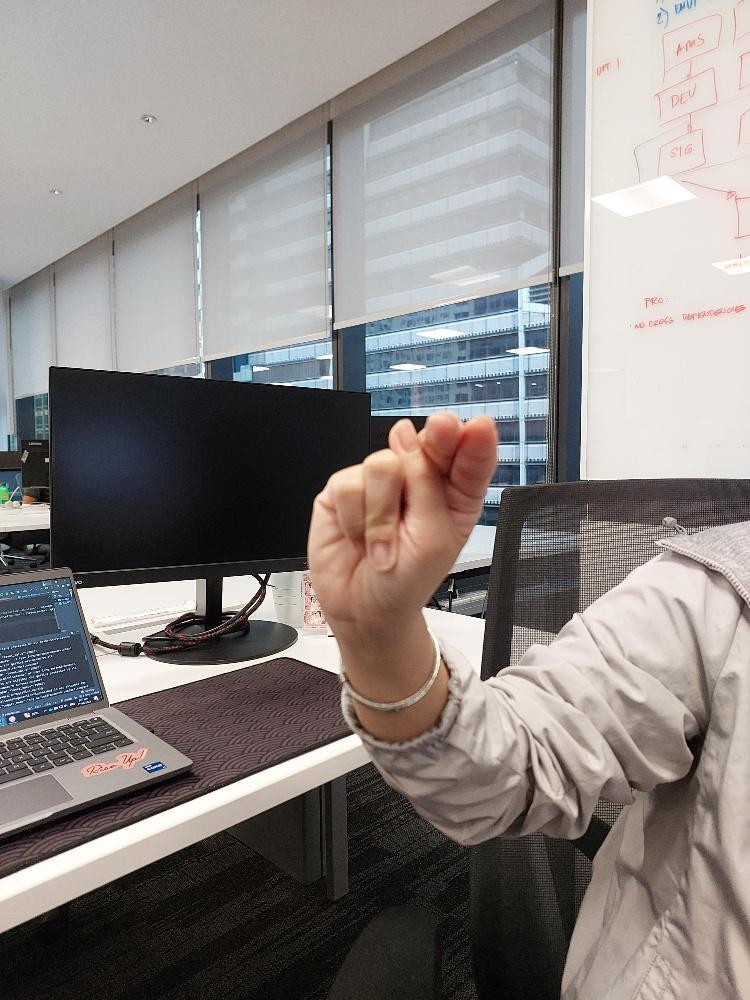n: (306, 407, 498, 612)
